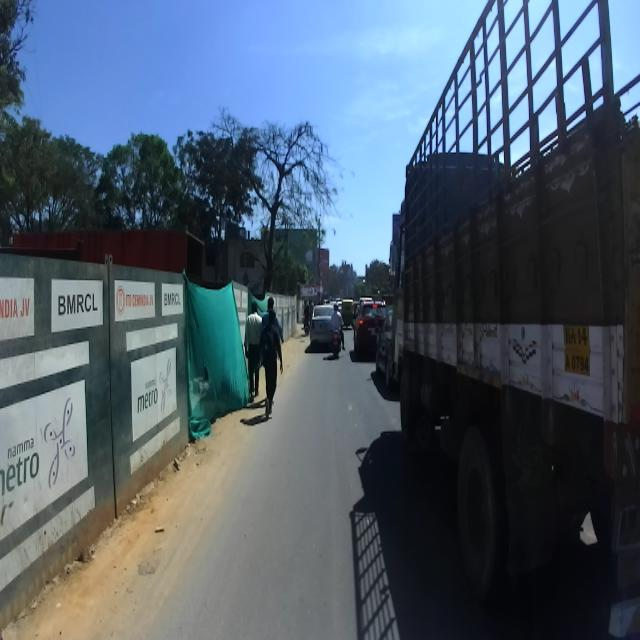car ahead at: (310, 301, 334, 343)
person ahead at: (247, 292, 284, 421)
truck ahead at: (389, 0, 640, 633)
